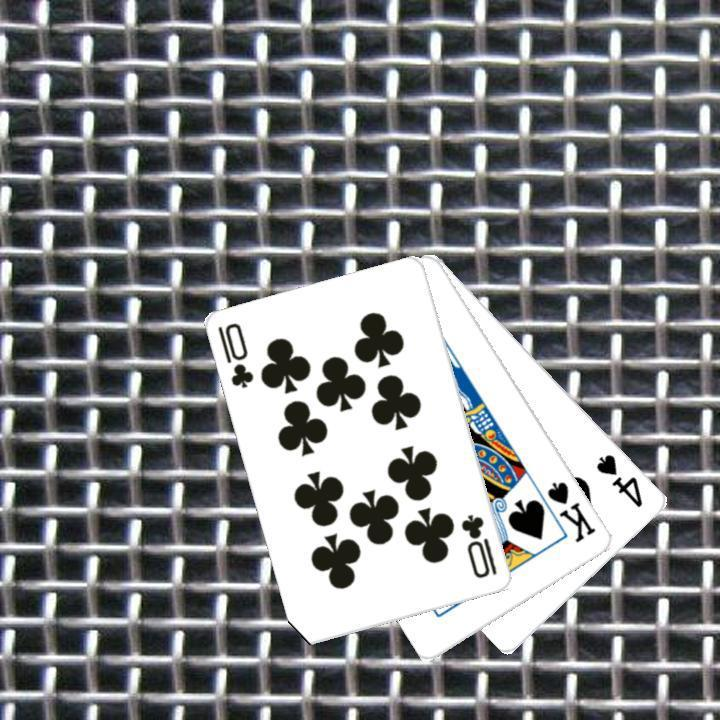10: (214, 318, 256, 391), (457, 510, 500, 581)
4: (592, 450, 645, 510)
K: (543, 477, 599, 545)
